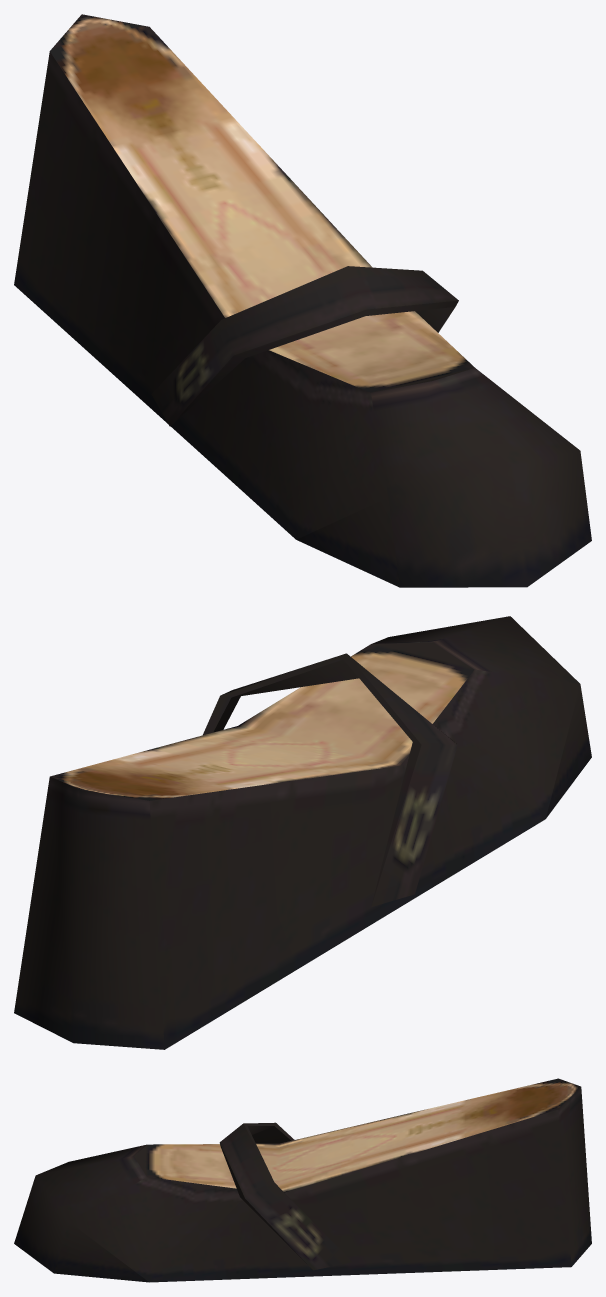
Rendered from sp_b_p_int_shoe_flat_lod1.glb.
The picture shows the model from 3 angles, top to bottom: view 1: azimuth 30°, elevation 25°; view 2: azimuth 150°, elevation 25°; view 3: azimuth 270°, elevation 25°; orthographic projection. The views are drawn at different scales.
Parts seen in each view (by area): view 1: surf0; view 2: surf0; view 3: surf0.
Part boxes in pixels (<box>): surf0: <box>14,14,591,587</box>; surf0: <box>14,616,591,1049</box>; surf0: <box>14,1078,591,1282</box>.
Bounding box in the file's own units: 4.05 × 3.83 × 12.77.
